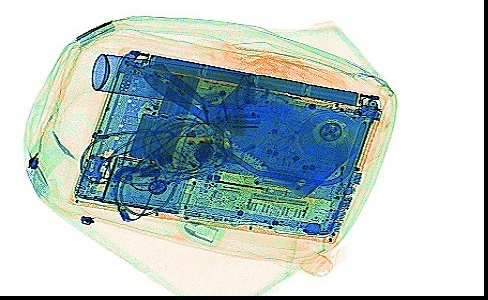knife: (135, 58, 360, 199)
powerbank: (126, 68, 200, 164)
pressure: (88, 51, 261, 111)
